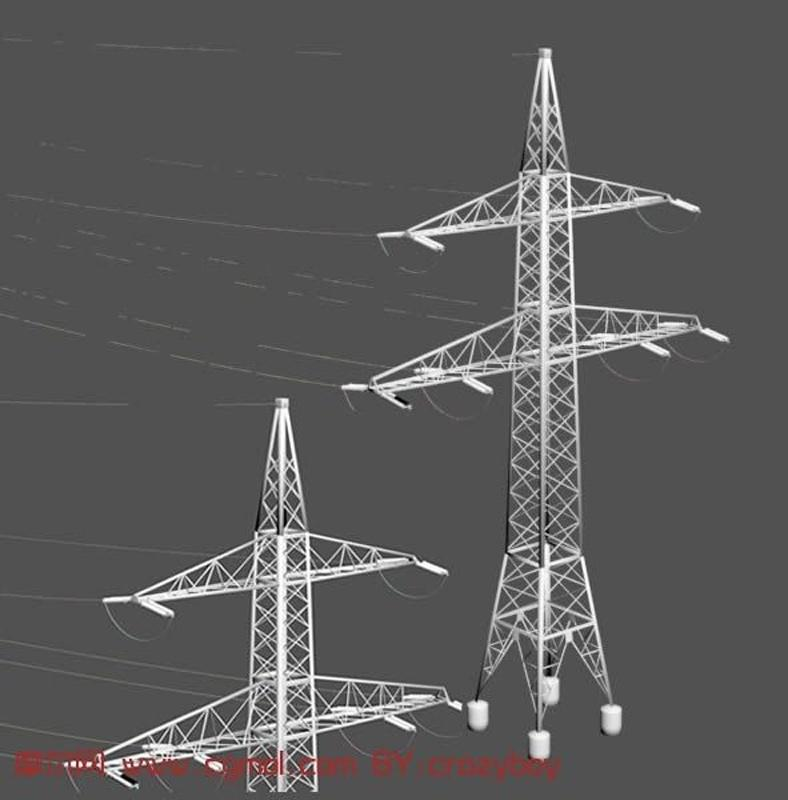power_tower: (428, 92, 663, 748), (90, 413, 425, 762)
